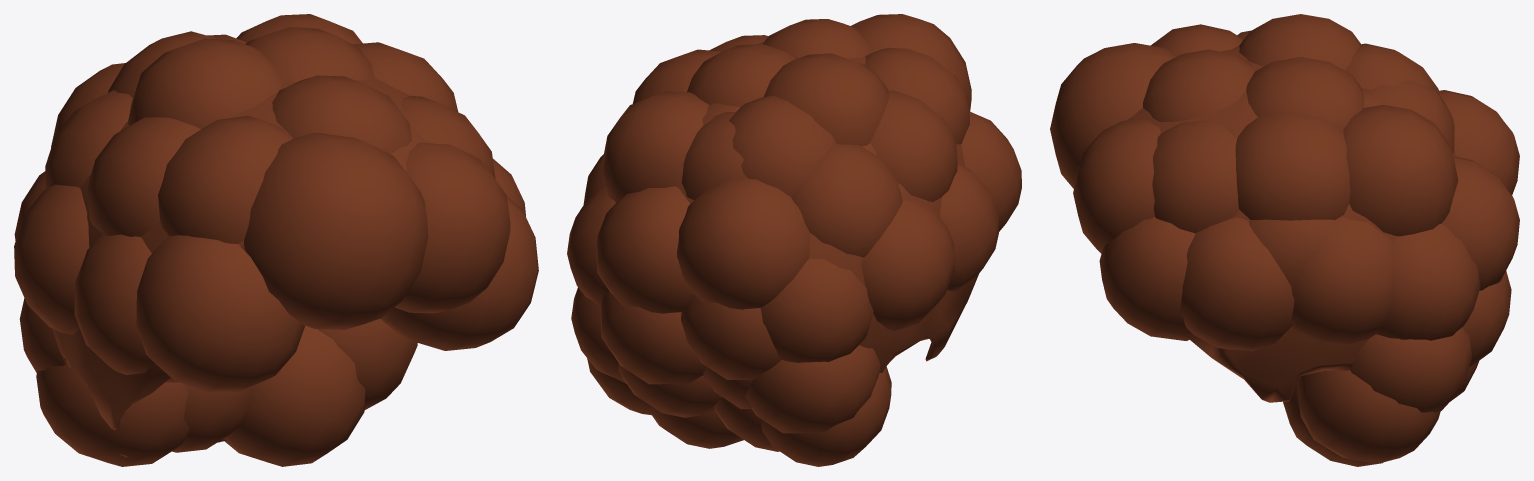
The model's file is hair-5-ef6a3d0e.glb.
3 renders of one model, left to right at view 1: azimuth 30°, elevation 25°; view 2: azimuth 150°, elevation 25°; view 3: azimuth 270°, elevation 25°, orthographic. The views are drawn at different scales.
Parts seen in each view (by area): view 1: hair_5.001; view 2: hair_5.001; view 3: hair_5.001.
Boxes of the visible parts, <box> form: hair_5.001: <box>14,14,538,466</box>; hair_5.001: <box>567,14,1021,466</box>; hair_5.001: <box>1050,14,1519,466</box>.
Bounding box in the file's own units: 1.8 × 1.82 × 1.96.
